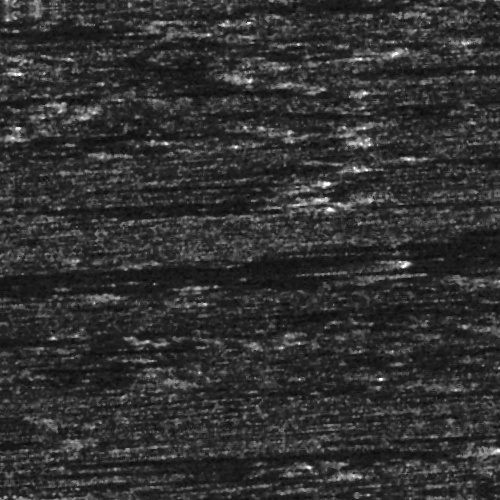object: (247, 194, 352, 209), (311, 262, 384, 273), (436, 452, 500, 463), (289, 176, 352, 187), (300, 471, 363, 480), (474, 264, 500, 277), (230, 462, 293, 467), (175, 280, 228, 285), (348, 169, 369, 172), (491, 206, 500, 211)
shadow: (19, 249, 500, 264), (63, 264, 500, 277), (110, 452, 478, 463), (65, 194, 299, 209), (43, 262, 347, 273), (101, 471, 332, 480), (164, 176, 320, 187), (31, 462, 261, 467), (315, 440, 500, 445), (44, 280, 201, 285), (203, 169, 358, 172), (370, 72, 500, 75), (462, 206, 500, 211), (337, 248, 500, 249)
